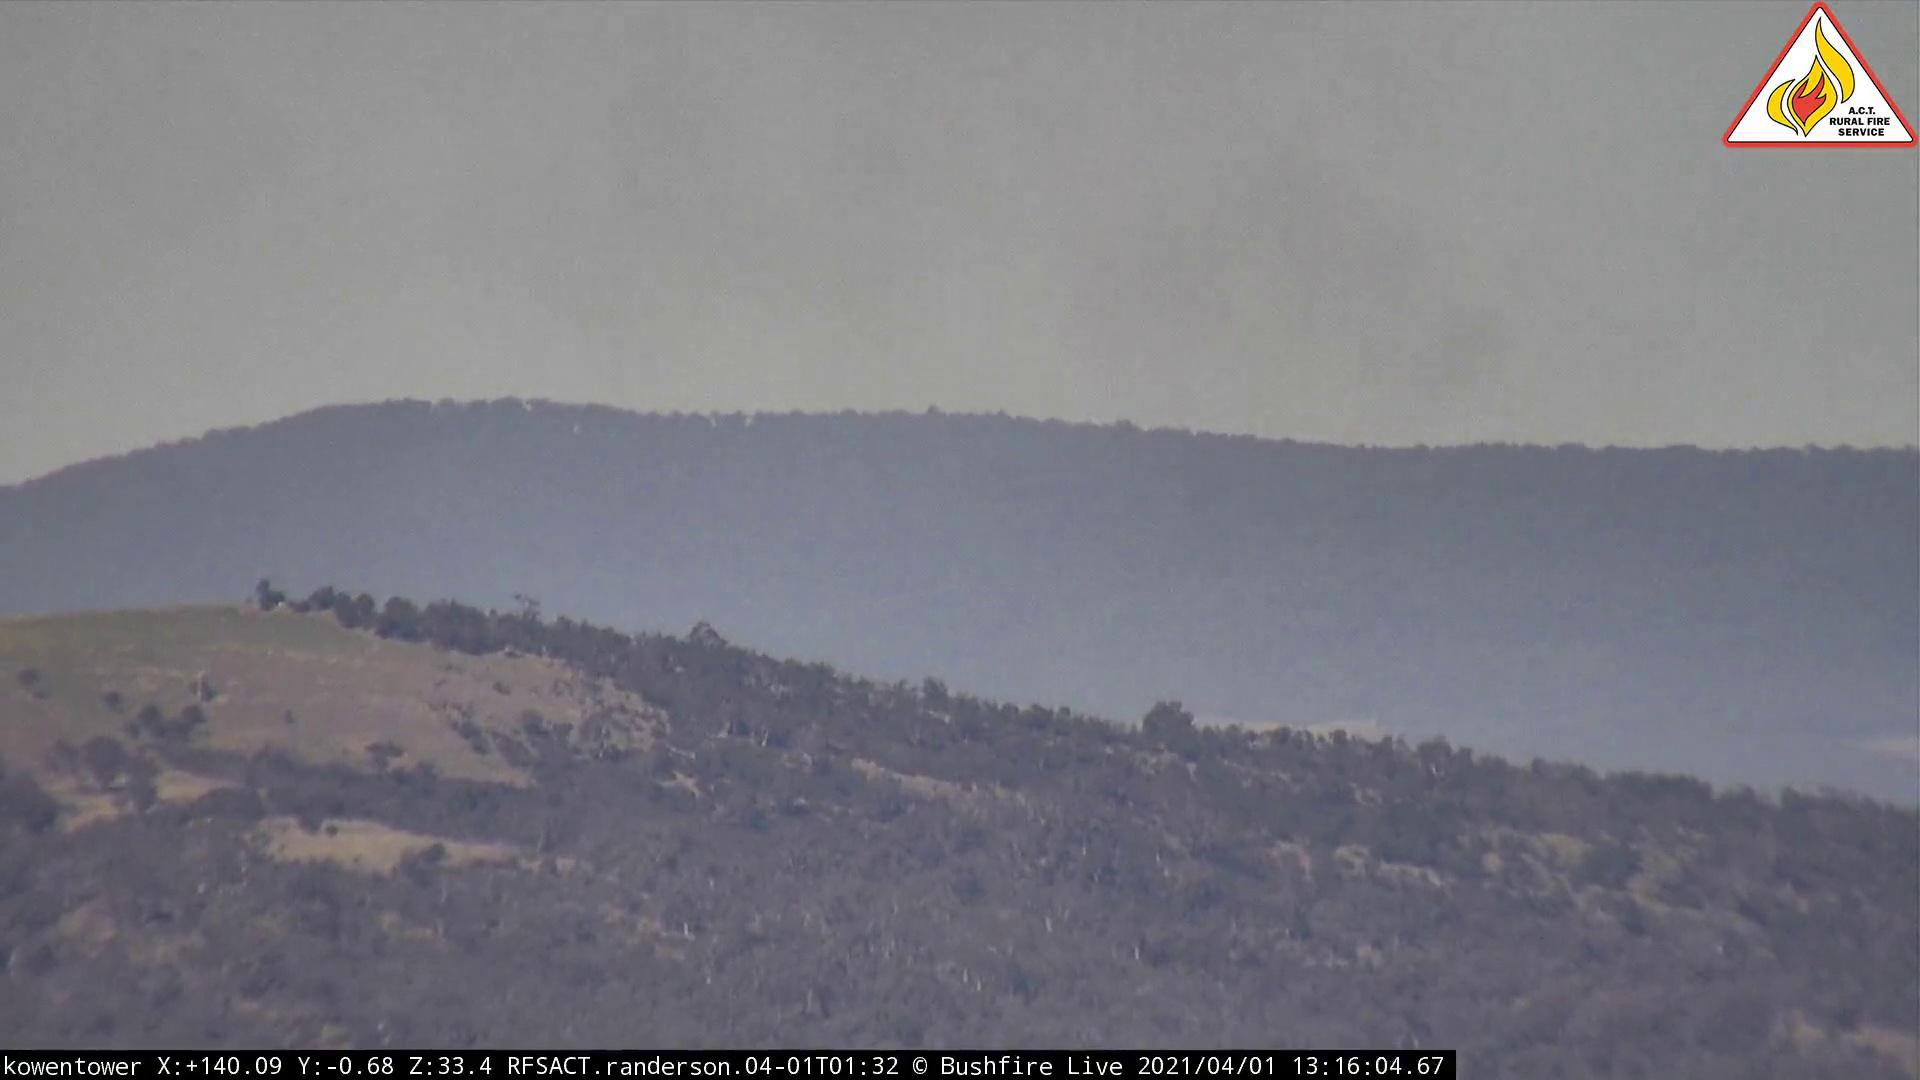Smoke: (495, 3, 1710, 771)
